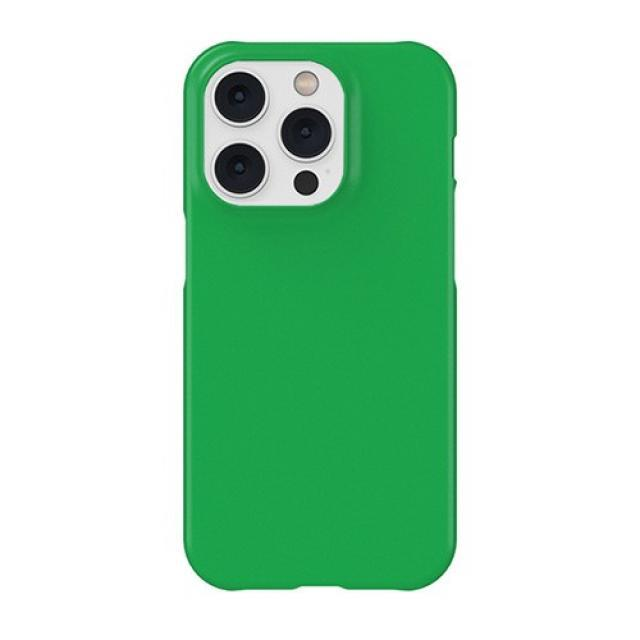phone: (183, 39, 459, 588)
